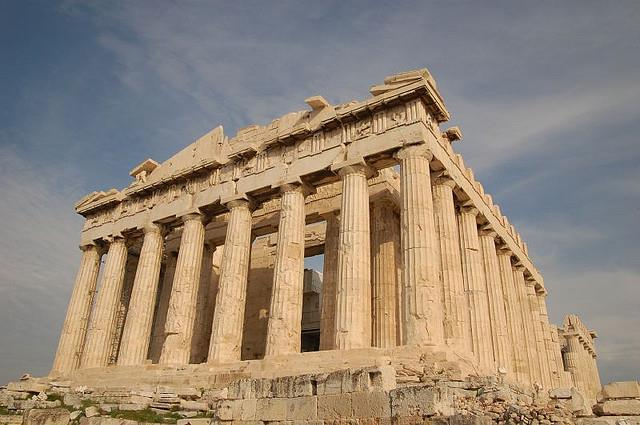akropoli: (66, 98, 609, 403)
